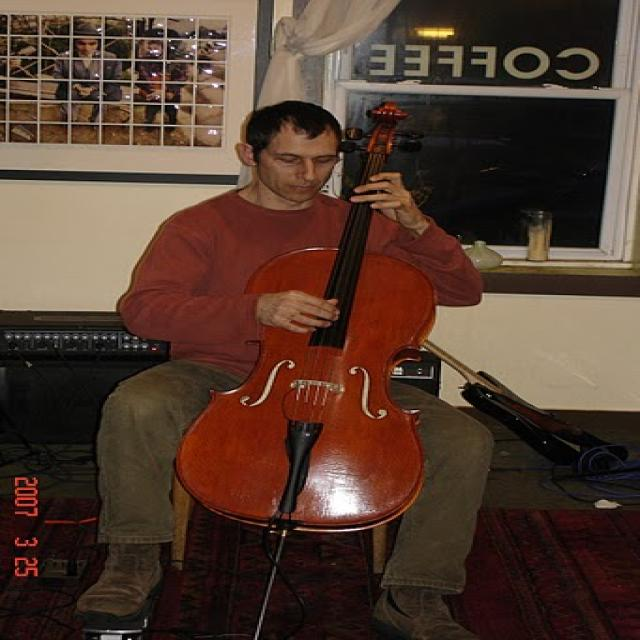cello: (172, 100, 446, 532)
